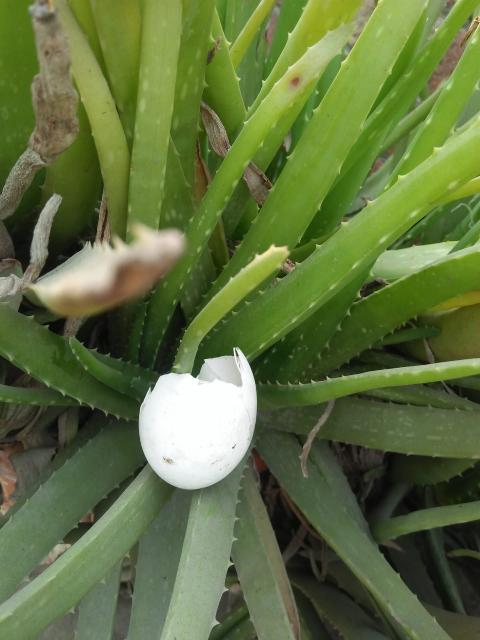Roto: (137, 346, 258, 490)
